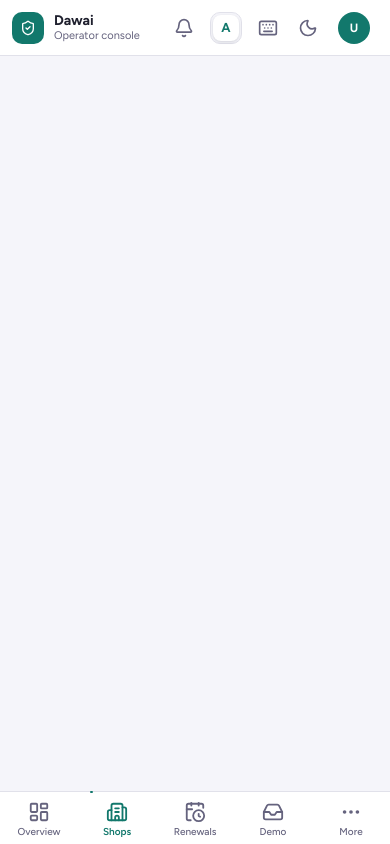
Test case: the operator console’s top bar › the rail › gives a phone four tabs and puts the tail in a sheet
Click the button "More": click(351, 818) [312, 792, 389, 843]
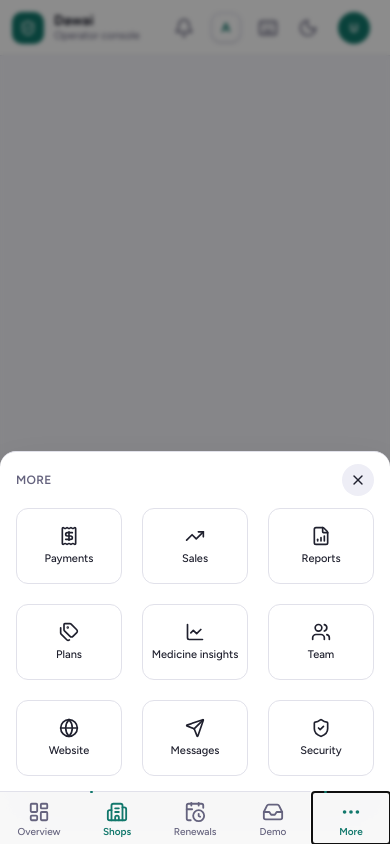
Check: the text "Plans" is shown, box [56, 648, 82, 661]
Check: the text "Team" is shown, box [308, 648, 334, 661]
